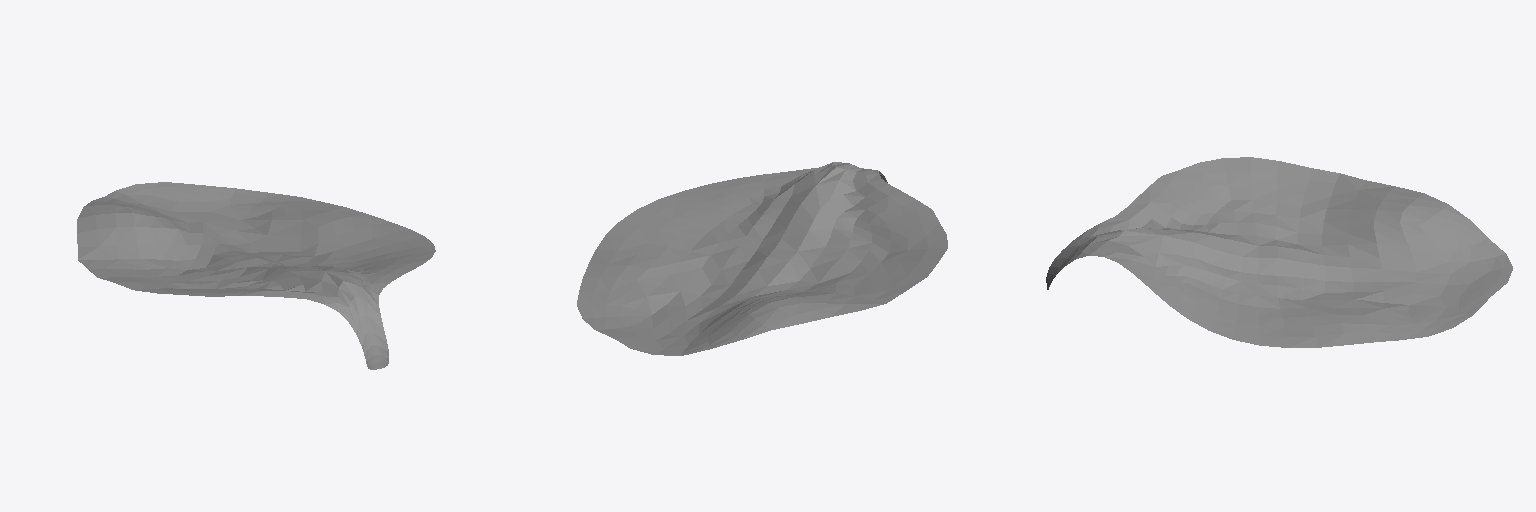
The model's file is flower.obj.
The picture shows the model from 3 angles: view 1: azimuth 30°, elevation 25°; view 2: azimuth 150°, elevation 25°; view 3: azimuth 270°, elevation 25°; orthographic projection.
Parts seen in each view (by area): view 1: plum_blossom_in_glass_cup; view 2: plum_blossom_in_glass_cup; view 3: plum_blossom_in_glass_cup.
Part boxes in pixels (left/top/right/bottom): plum_blossom_in_glass_cup: left=77, top=182, right=435, bottom=369; plum_blossom_in_glass_cup: left=577, top=162, right=947, bottom=355; plum_blossom_in_glass_cup: left=1046, top=157, right=1512, bottom=347.
Bounding box in the file's own units: 2.23 × 0.3974 × 2.84.